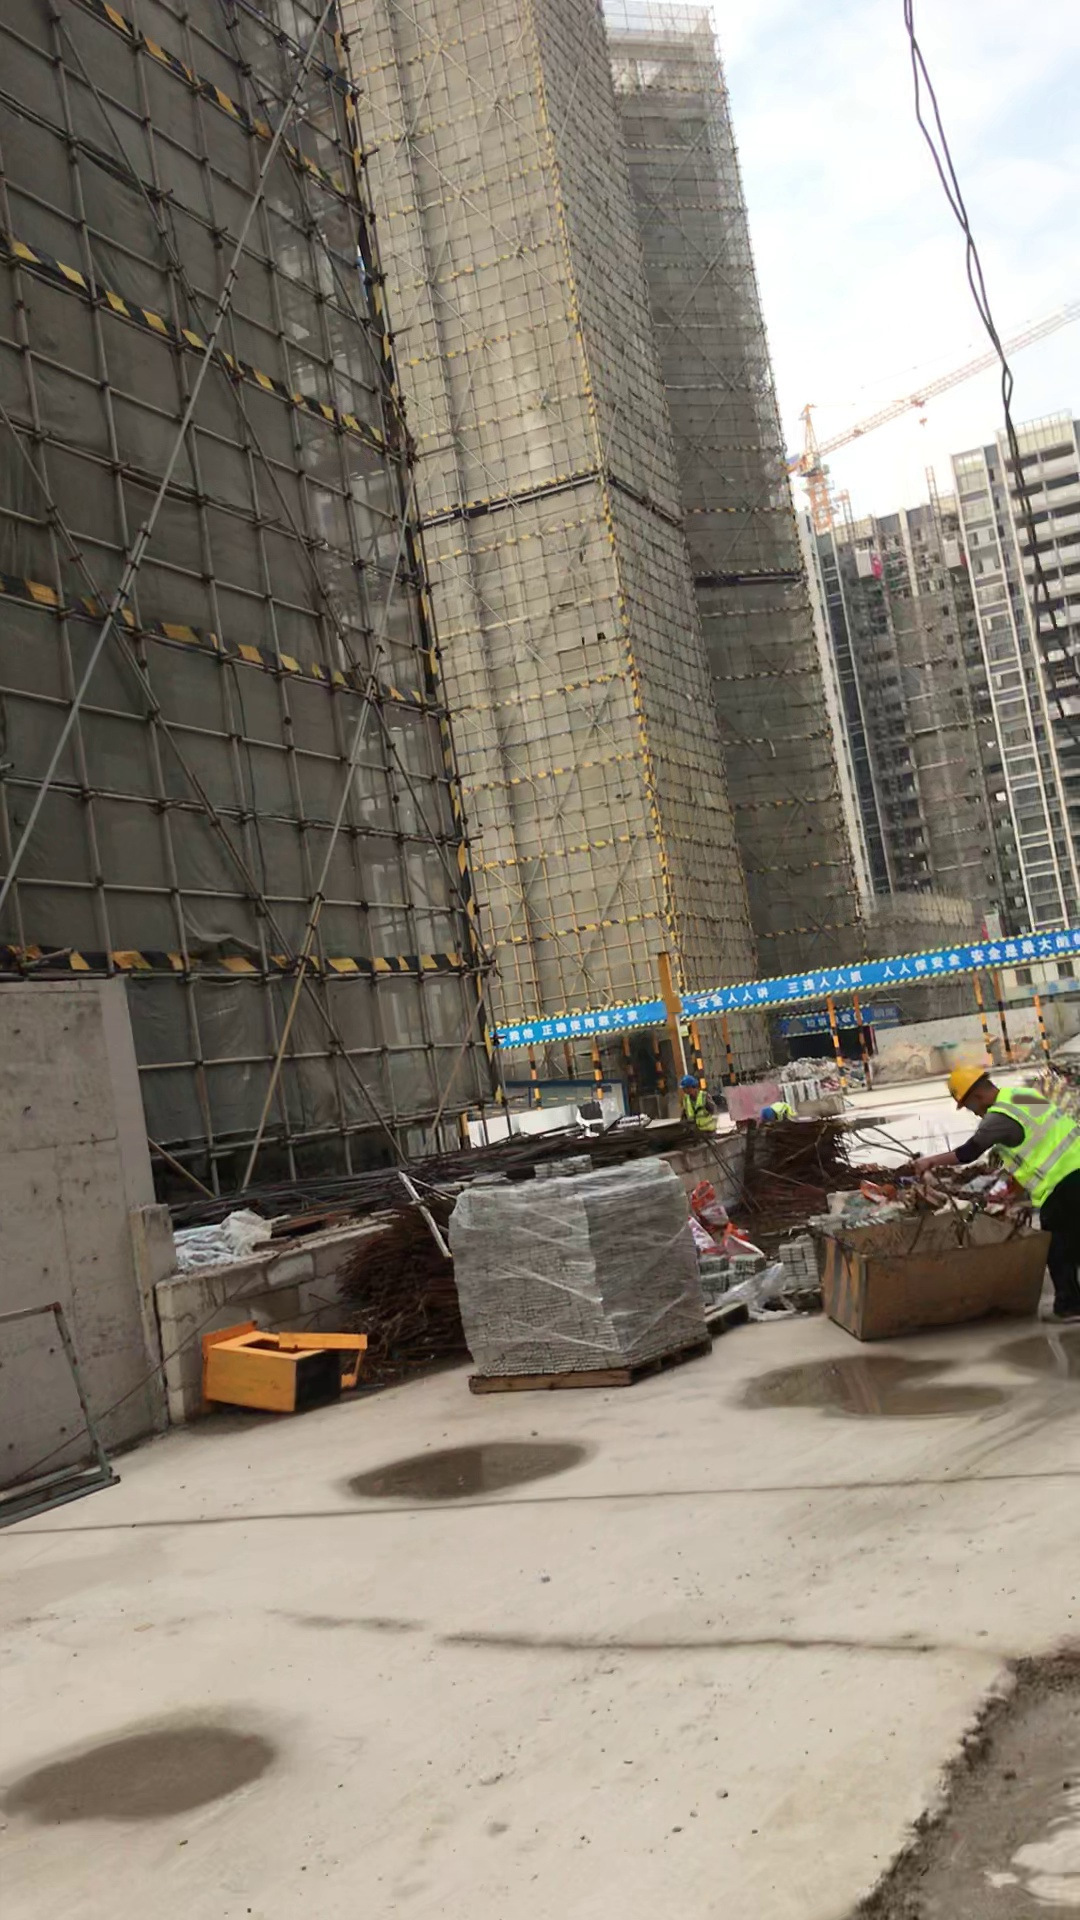ebox: (180, 1311, 378, 1424)
helmet: (946, 1059, 991, 1107), (679, 1073, 700, 1087), (763, 1106, 775, 1121)
hopper: (807, 1220, 1064, 1349)
person: (920, 1059, 1080, 1347), (674, 1075, 721, 1134), (756, 1102, 797, 1121)
slogan: (486, 933, 1080, 1055)
vest: (980, 1086, 1074, 1198), (684, 1093, 719, 1130), (778, 1101, 796, 1120)
